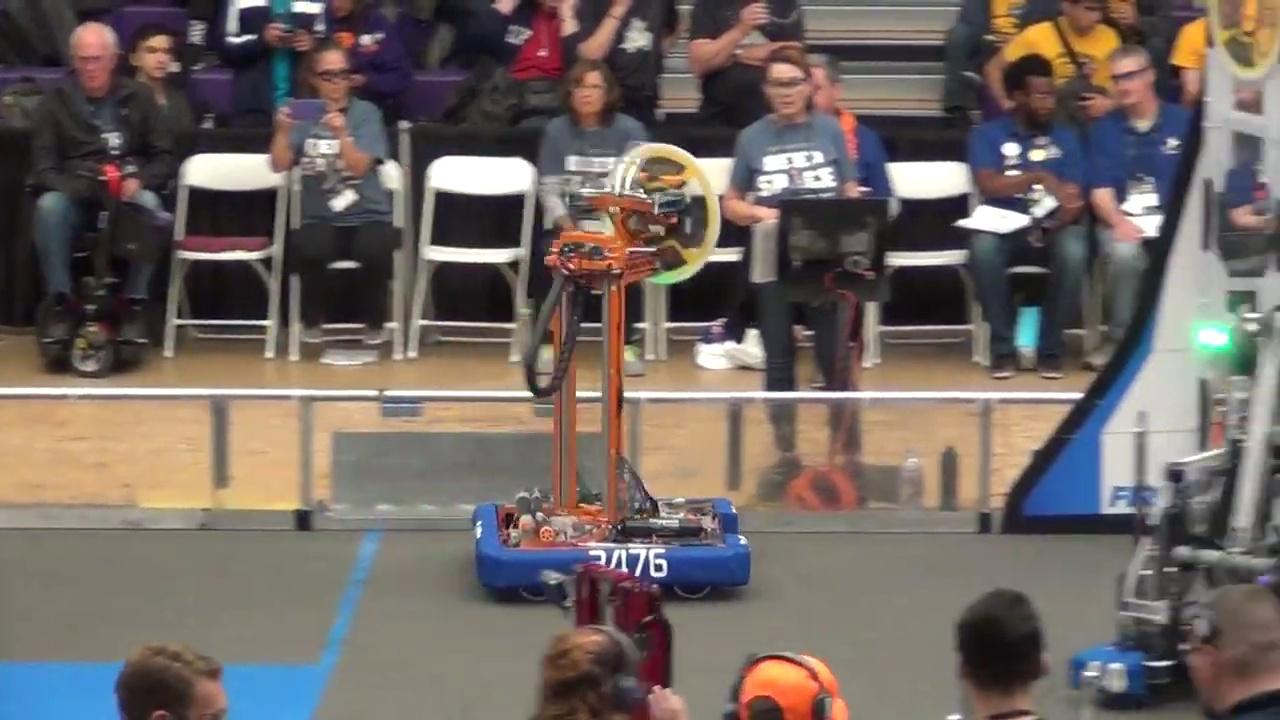robot: (470, 156, 754, 607), (1063, 287, 1280, 716)
